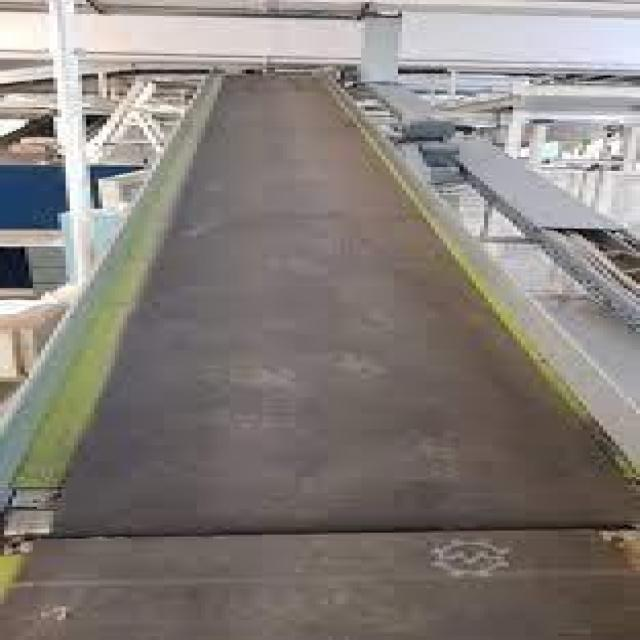Tear: (31, 500, 640, 568)
